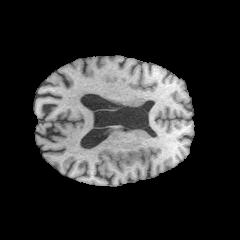glioma: (98, 147, 154, 172)
